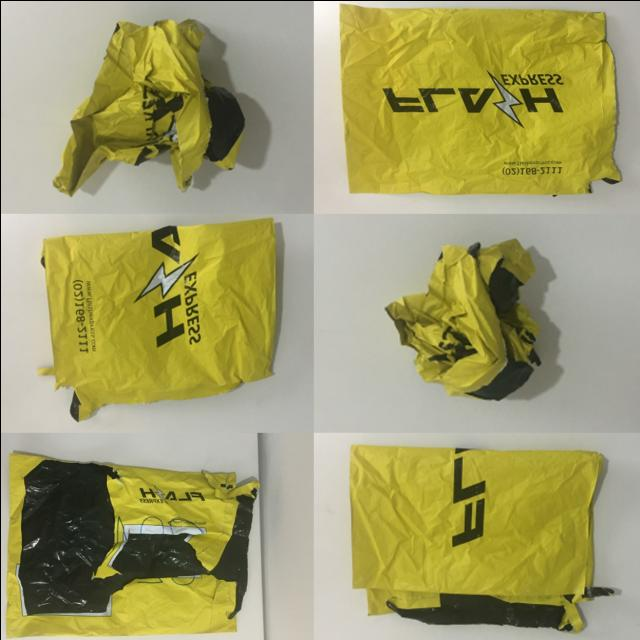plastik: (339, 4, 620, 194), (349, 444, 612, 632), (38, 218, 275, 420), (6, 452, 258, 637), (52, 20, 244, 195), (385, 239, 539, 399)
